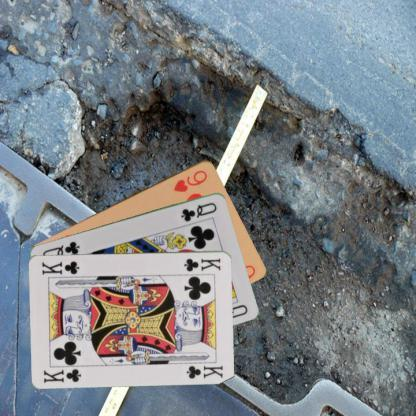9h: (170, 168, 208, 194)
Kc: (41, 366, 83, 384), (181, 255, 222, 273)
Qc: (178, 199, 219, 222)
